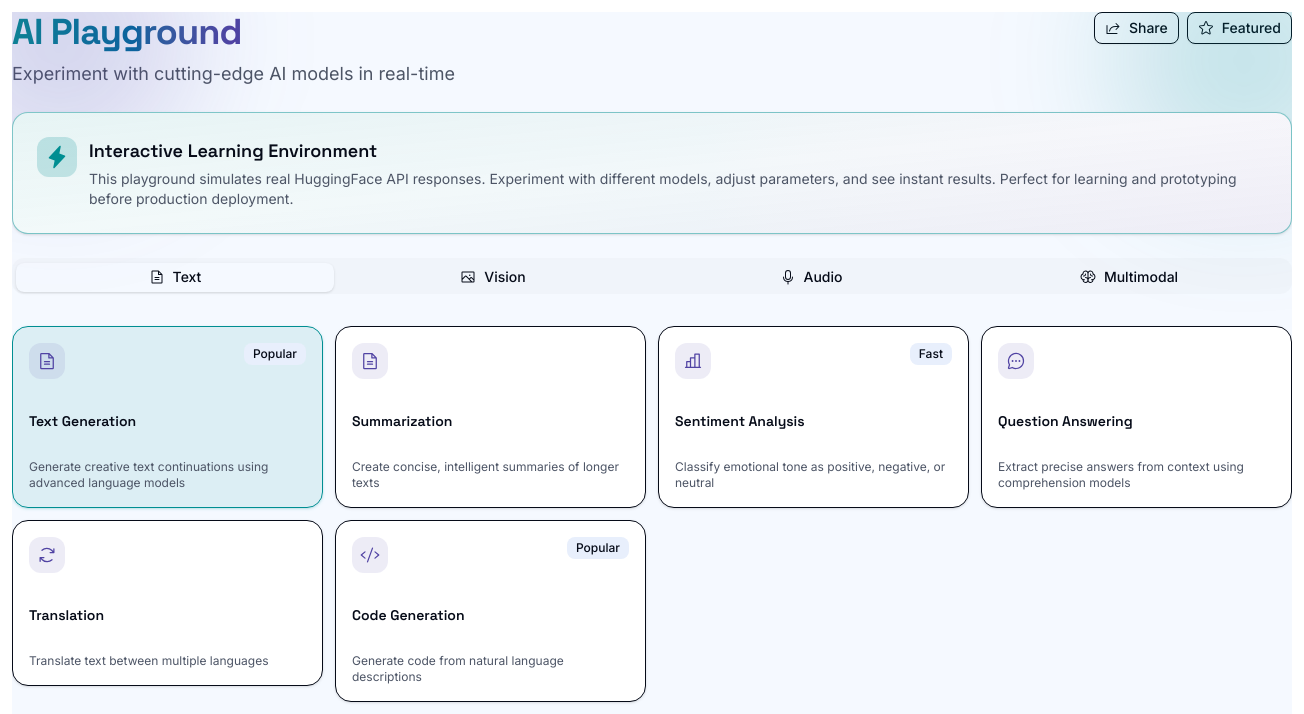
Scenario: ApiPlayground › Category Switching › should switch to multimodal category
The image size is (1304, 714).
Click the tab "Multimodal" at [1129, 277], box [970,262,1288,292]
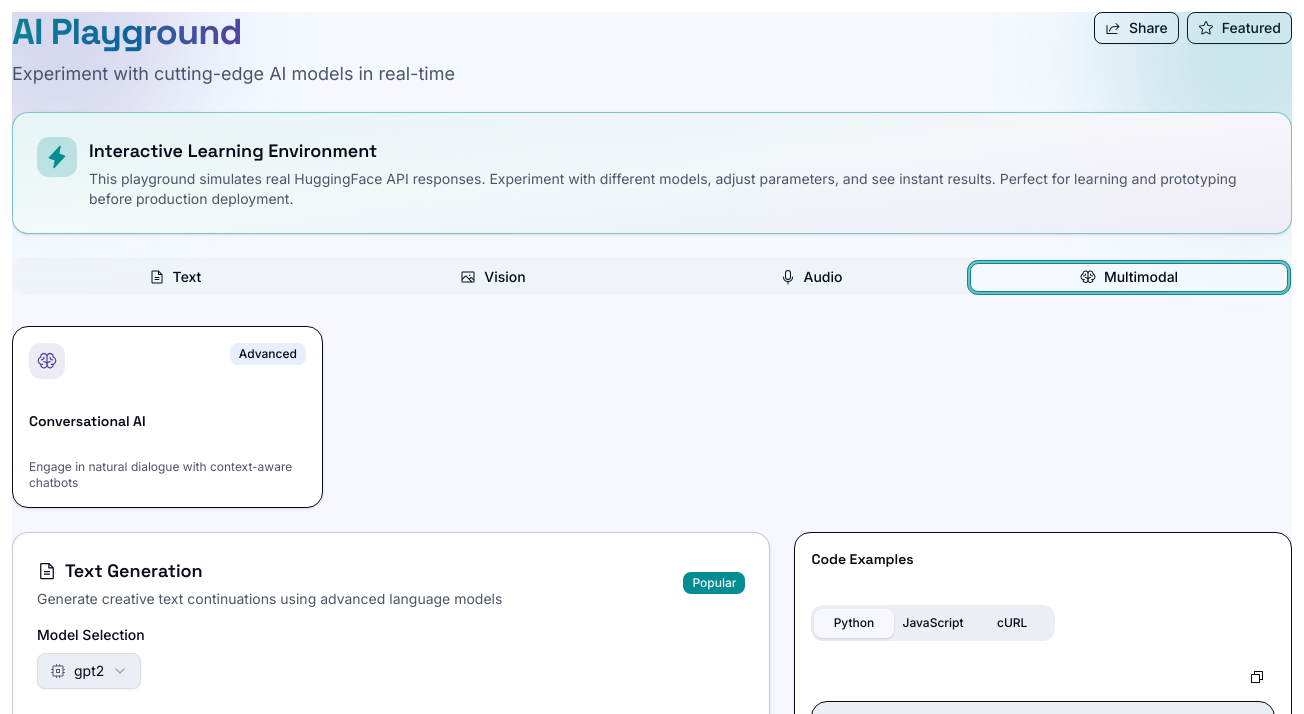
Check: the heading "Conversational AI" is shown, box [29,412,146,430]
